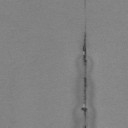slag inclusion: (72, 30, 96, 128), (84, 0, 86, 7)
